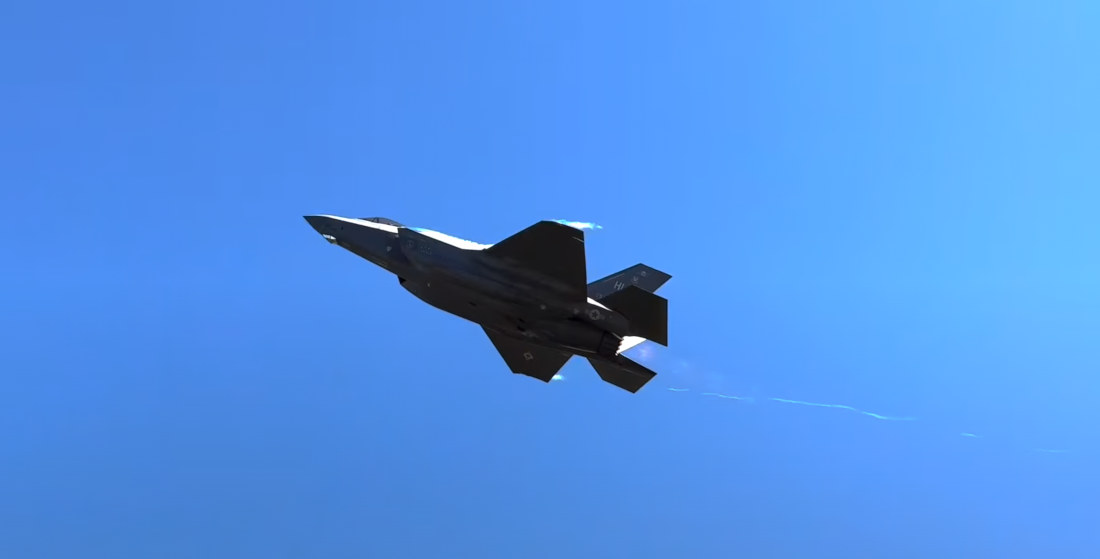F35: (301, 213, 671, 396)
